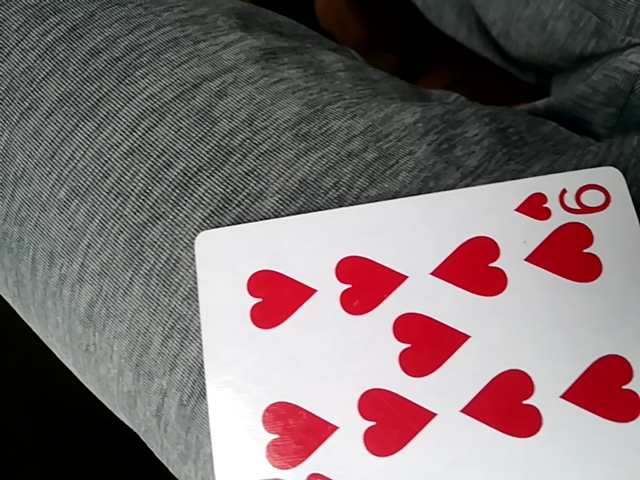hx 9: (192, 165, 640, 478)
